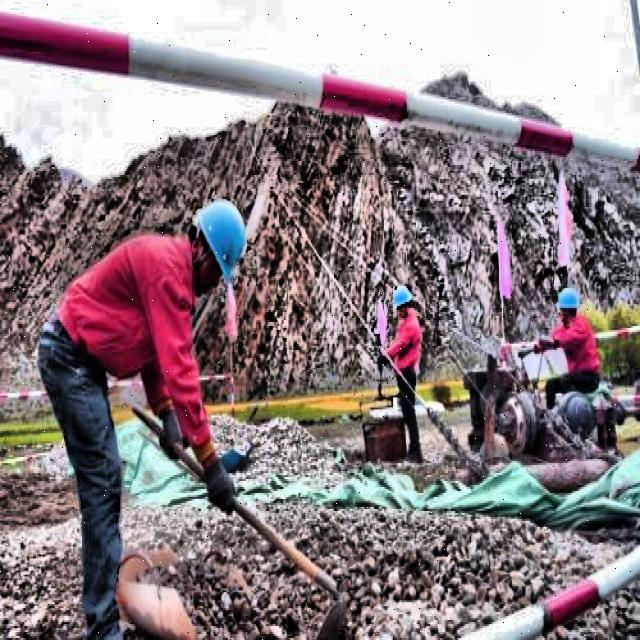helmet: (184, 192, 250, 296), (554, 280, 582, 332), (390, 282, 412, 324)
